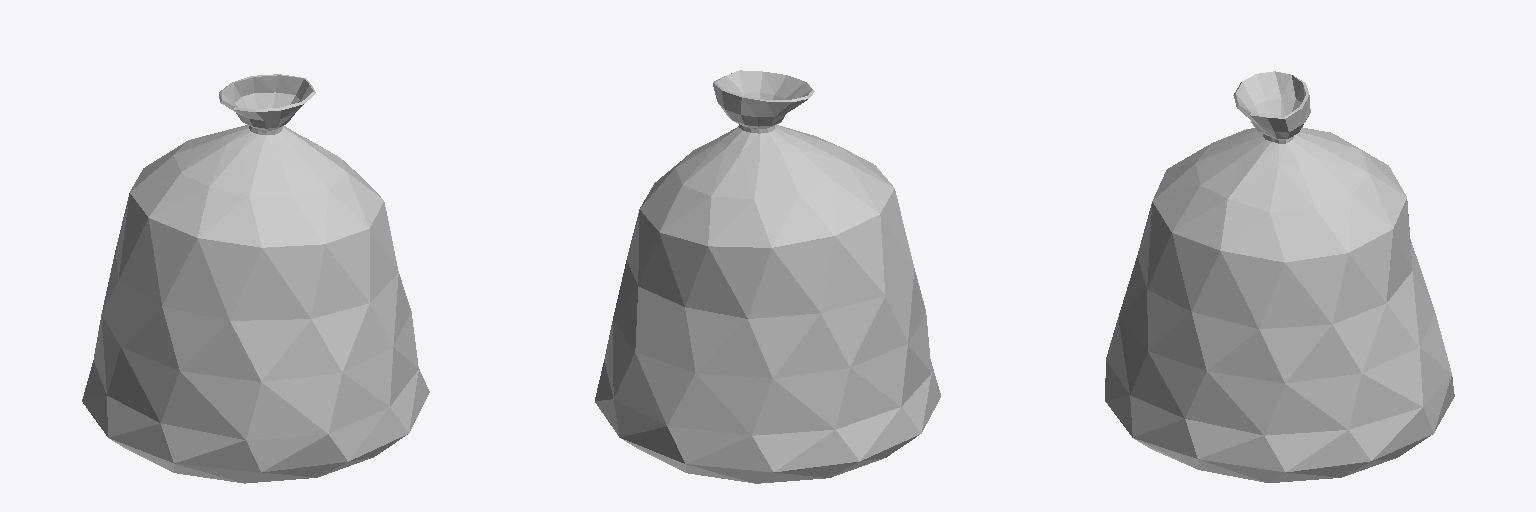
The model's file is Bag_3.obj.
3 views of the same model, side by side, from view 1: azimuth 30°, elevation 25°; view 2: azimuth 150°, elevation 25°; view 3: azimuth 270°, elevation 25° (orthographic).
Visible parts, largest first — view 1: Bag_3; view 2: Bag_3; view 3: Bag_3.
Boxes of the visible parts, x1,y1,x2,y2 form: Bag_3: [82, 74, 429, 483]; Bag_3: [595, 70, 940, 483]; Bag_3: [1105, 71, 1454, 482].
Size of the model in its own units: 0.8661 by 0.919 by 0.8693.